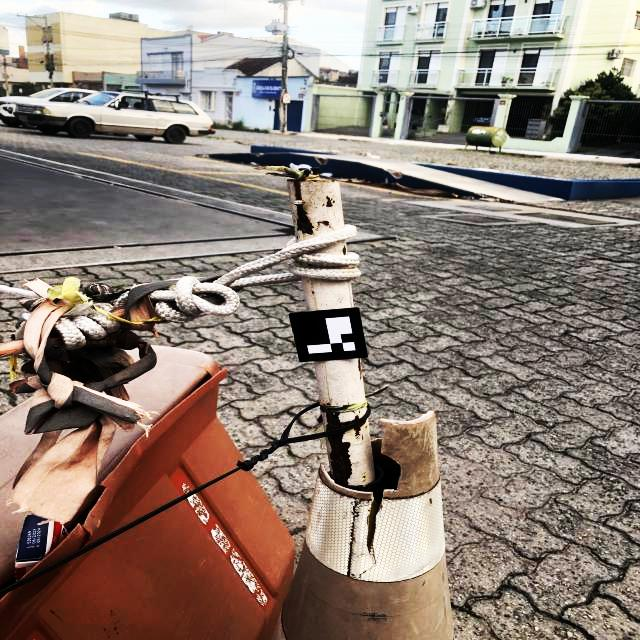Corrosion: (327, 431, 353, 485), (292, 200, 315, 236), (286, 179, 319, 201), (325, 413, 361, 432), (353, 419, 366, 436), (325, 195, 334, 208), (316, 220, 331, 227), (358, 357, 362, 380), (311, 167, 320, 175), (342, 246, 346, 256), (307, 264, 317, 268), (351, 411, 358, 415), (298, 168, 307, 171), (362, 475, 367, 479), (354, 435, 360, 438), (362, 434, 364, 441), (326, 403, 331, 405), (312, 291, 315, 294), (365, 425, 368, 428), (358, 410, 361, 413), (322, 204, 325, 207), (362, 480, 366, 482), (297, 235, 299, 239), (331, 180, 335, 182), (333, 200, 335, 203), (323, 180, 325, 182)
